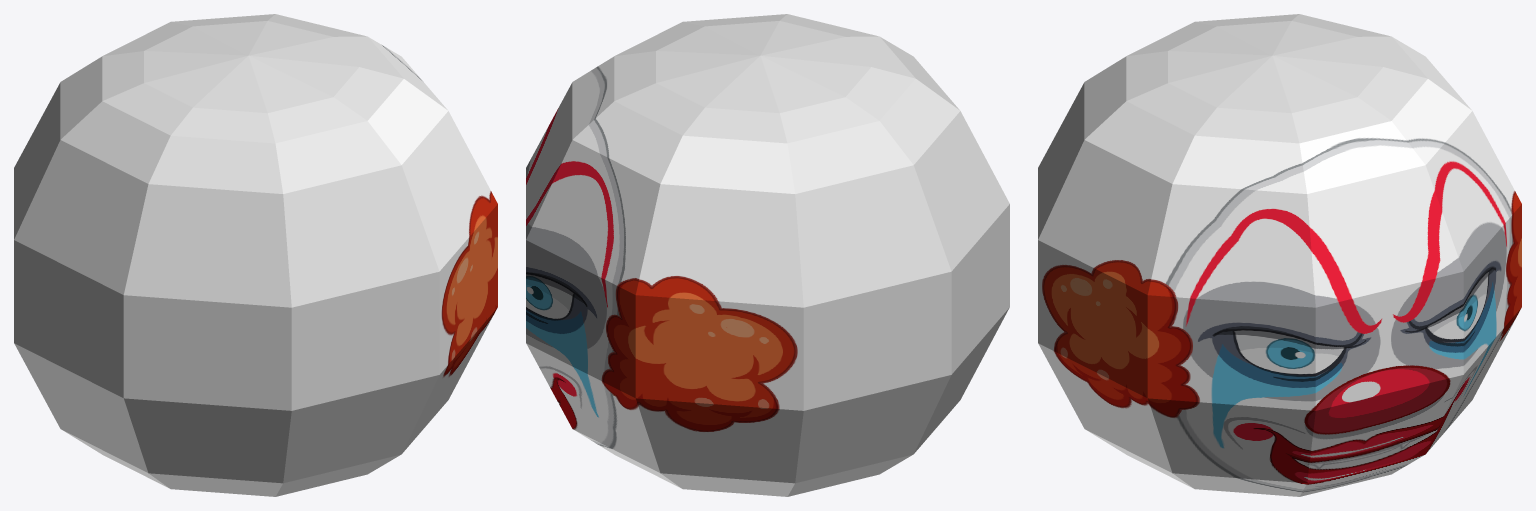
Rendered from ClownHead.fbx.
3 views of the same model, side by side, from view 1: azimuth 30°, elevation 25°; view 2: azimuth 150°, elevation 25°; view 3: azimuth 270°, elevation 25° (orthographic).
Visible parts, largest first — view 1: Sphere; view 2: Sphere; view 3: Sphere.
Part boxes in pixels (bbox=[...]): Sphere: bbox=[14, 14, 497, 496]; Sphere: bbox=[526, 14, 1009, 496]; Sphere: bbox=[1038, 14, 1521, 496].
Size of the model in its own units: 192 by 172 by 189.
Materials: 2 (1 with a texture image).
